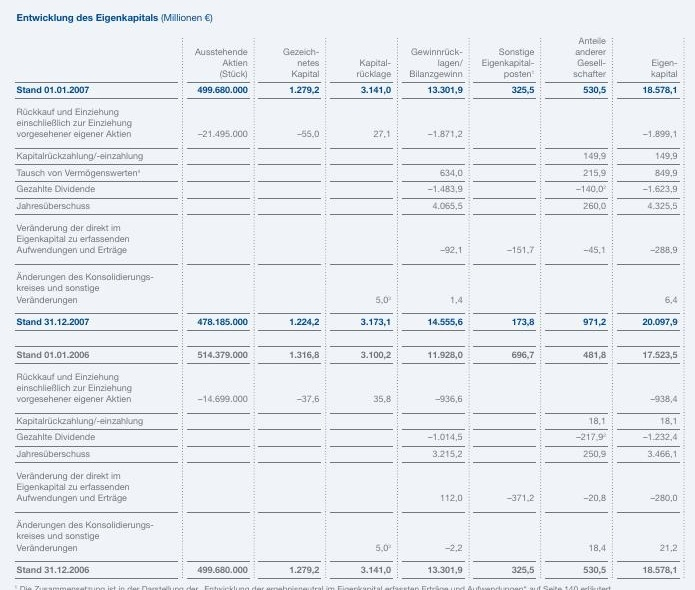table: (0, 0, 695, 590)
